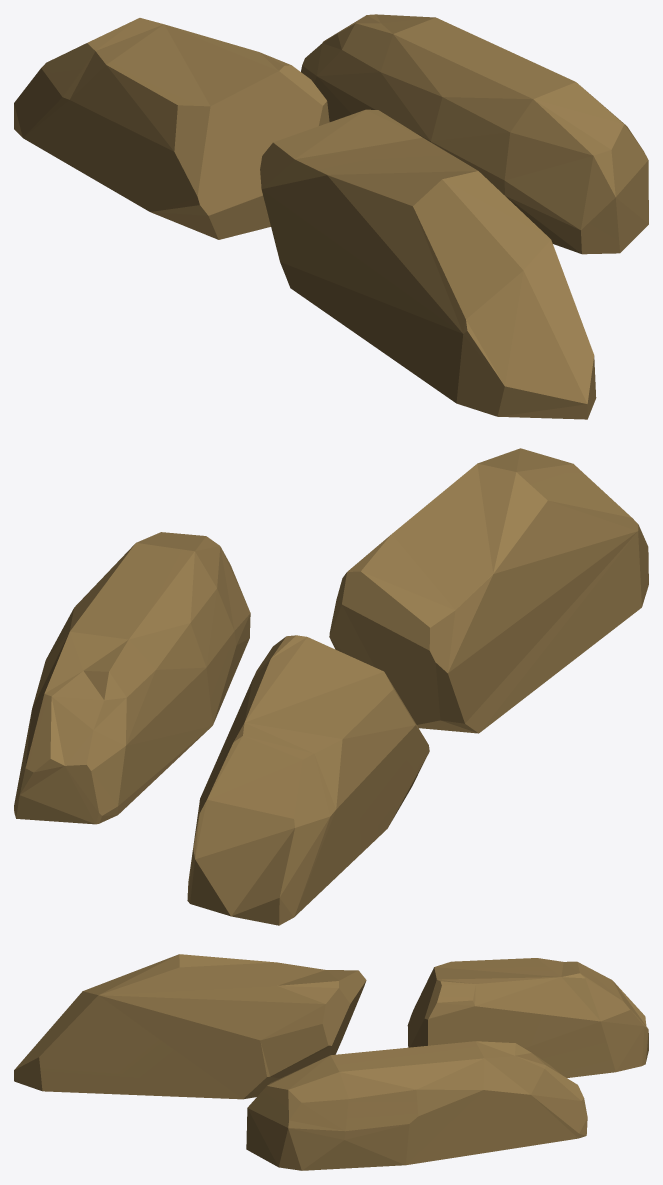
File: rockGroup03.fbx
3 views of the same model, one above another, from view 1: azimuth 30°, elevation 25°; view 2: azimuth 150°, elevation 25°; view 3: azimuth 270°, elevation 25° (orthographic). The views are drawn at different scales.
Parts seen in each view (by area): view 1: rockGroup03; view 2: rockGroup03; view 3: rockGroup03.
Boxes of the visible parts, left/top/right/bottom form: rockGroup03: left=14, top=14, right=648, bottom=419; rockGroup03: left=14, top=448, right=648, bottom=925; rockGroup03: left=14, top=954, right=648, bottom=1170.
Size of the model in its own units: 166 by 66.21 by 326.
